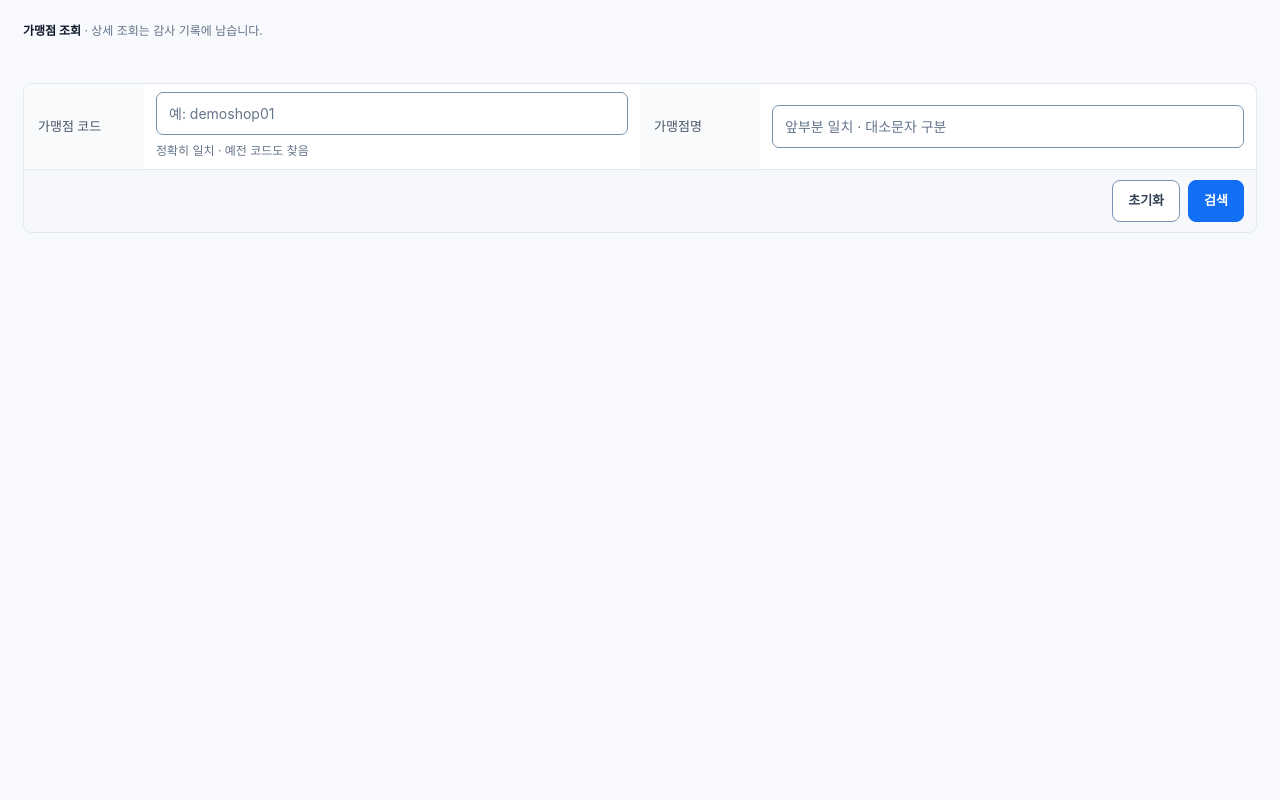
Test: MerchantsScreen — list ↔ detail screen switch (MERCHANT-DETAIL-VIEW-001) › "상세" switches to the detail screen: the list, filters and search are hidden; the title row has "← 목록으로"; no internal key in the DOM
Later steps or results of the test are not shown.
Click the button "검색" at point(1216, 201), box left=1188, top=180, right=1244, bottom=222
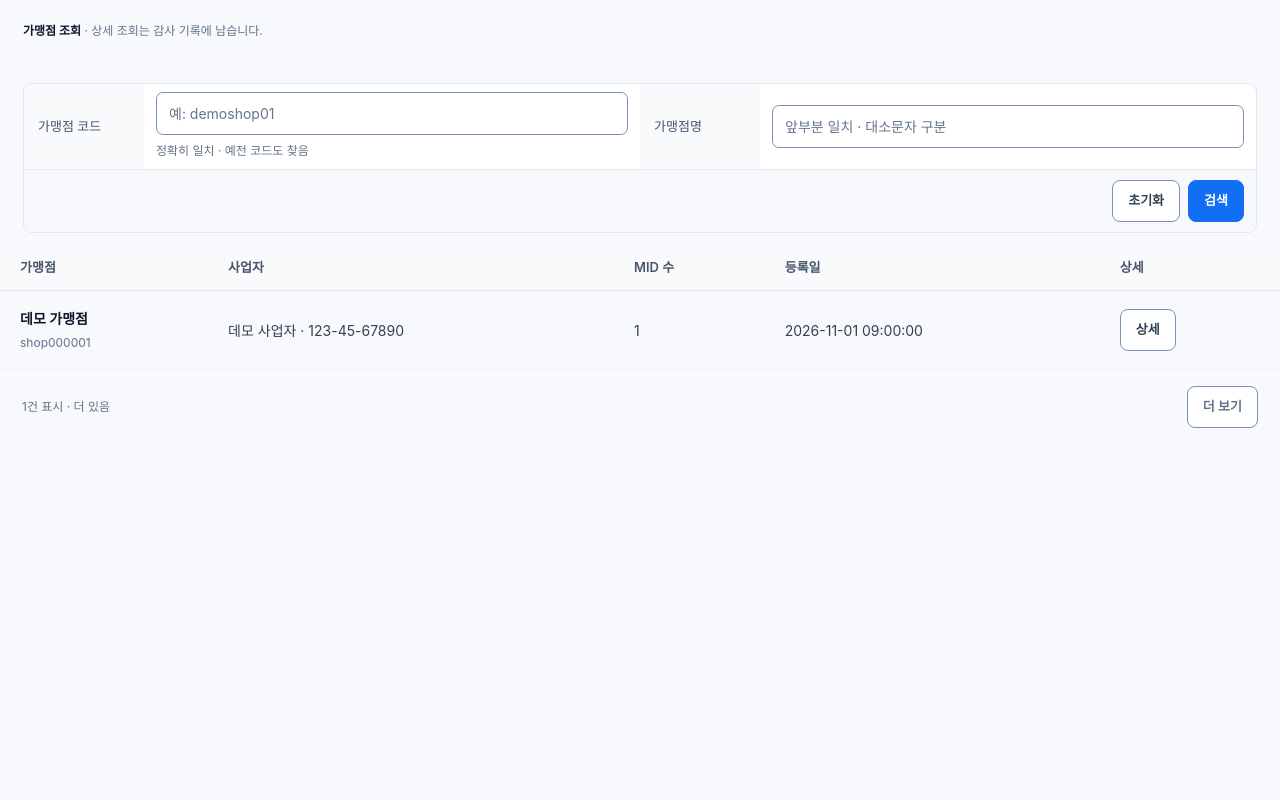
Check: the button "목록으로" is not shown
Check: the table named "가맹점 목록" is shown, box left=0, top=245, right=1279, bottom=370
Click the button "상세" at point(1148, 330), box left=1120, top=309, right=1176, bottom=351
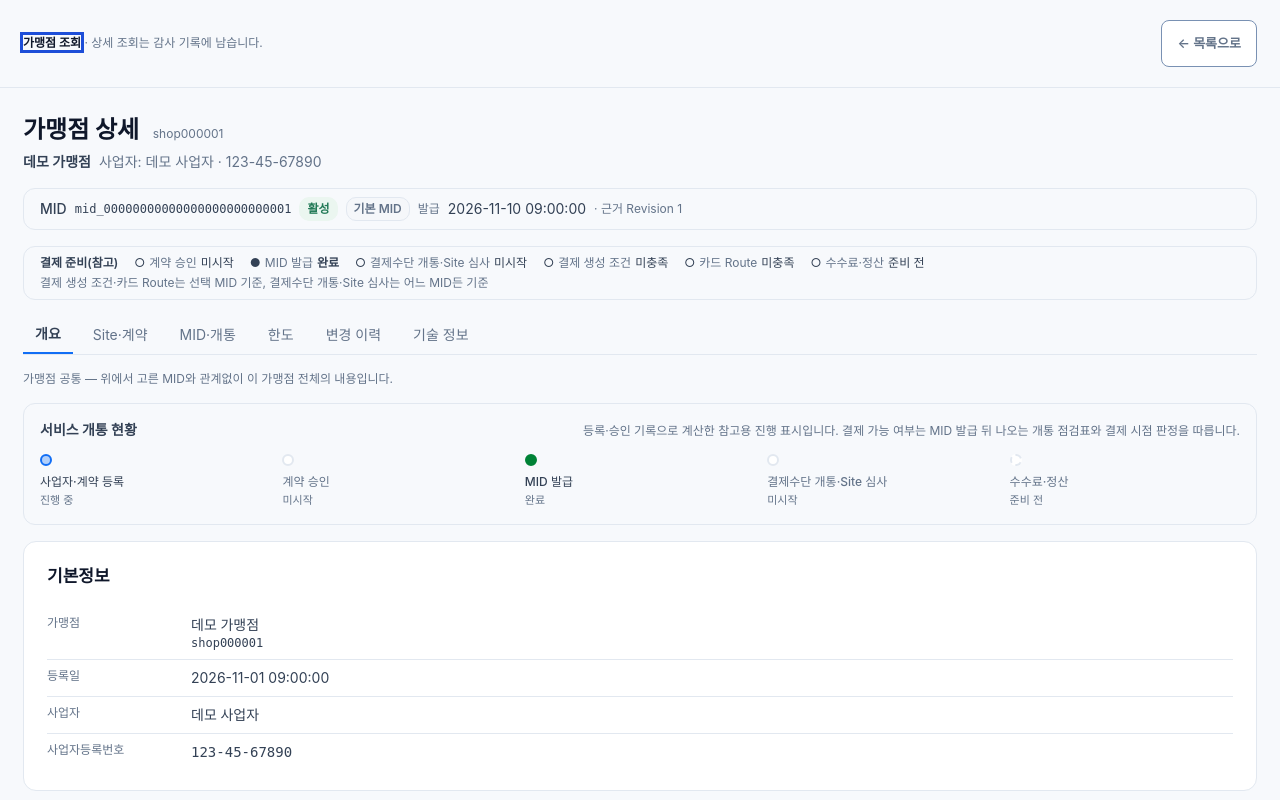
Check: the button "검색" is gone
Check: the label labelled "가맹점 코드" is gone
Check: the button "더 보기" is gone
